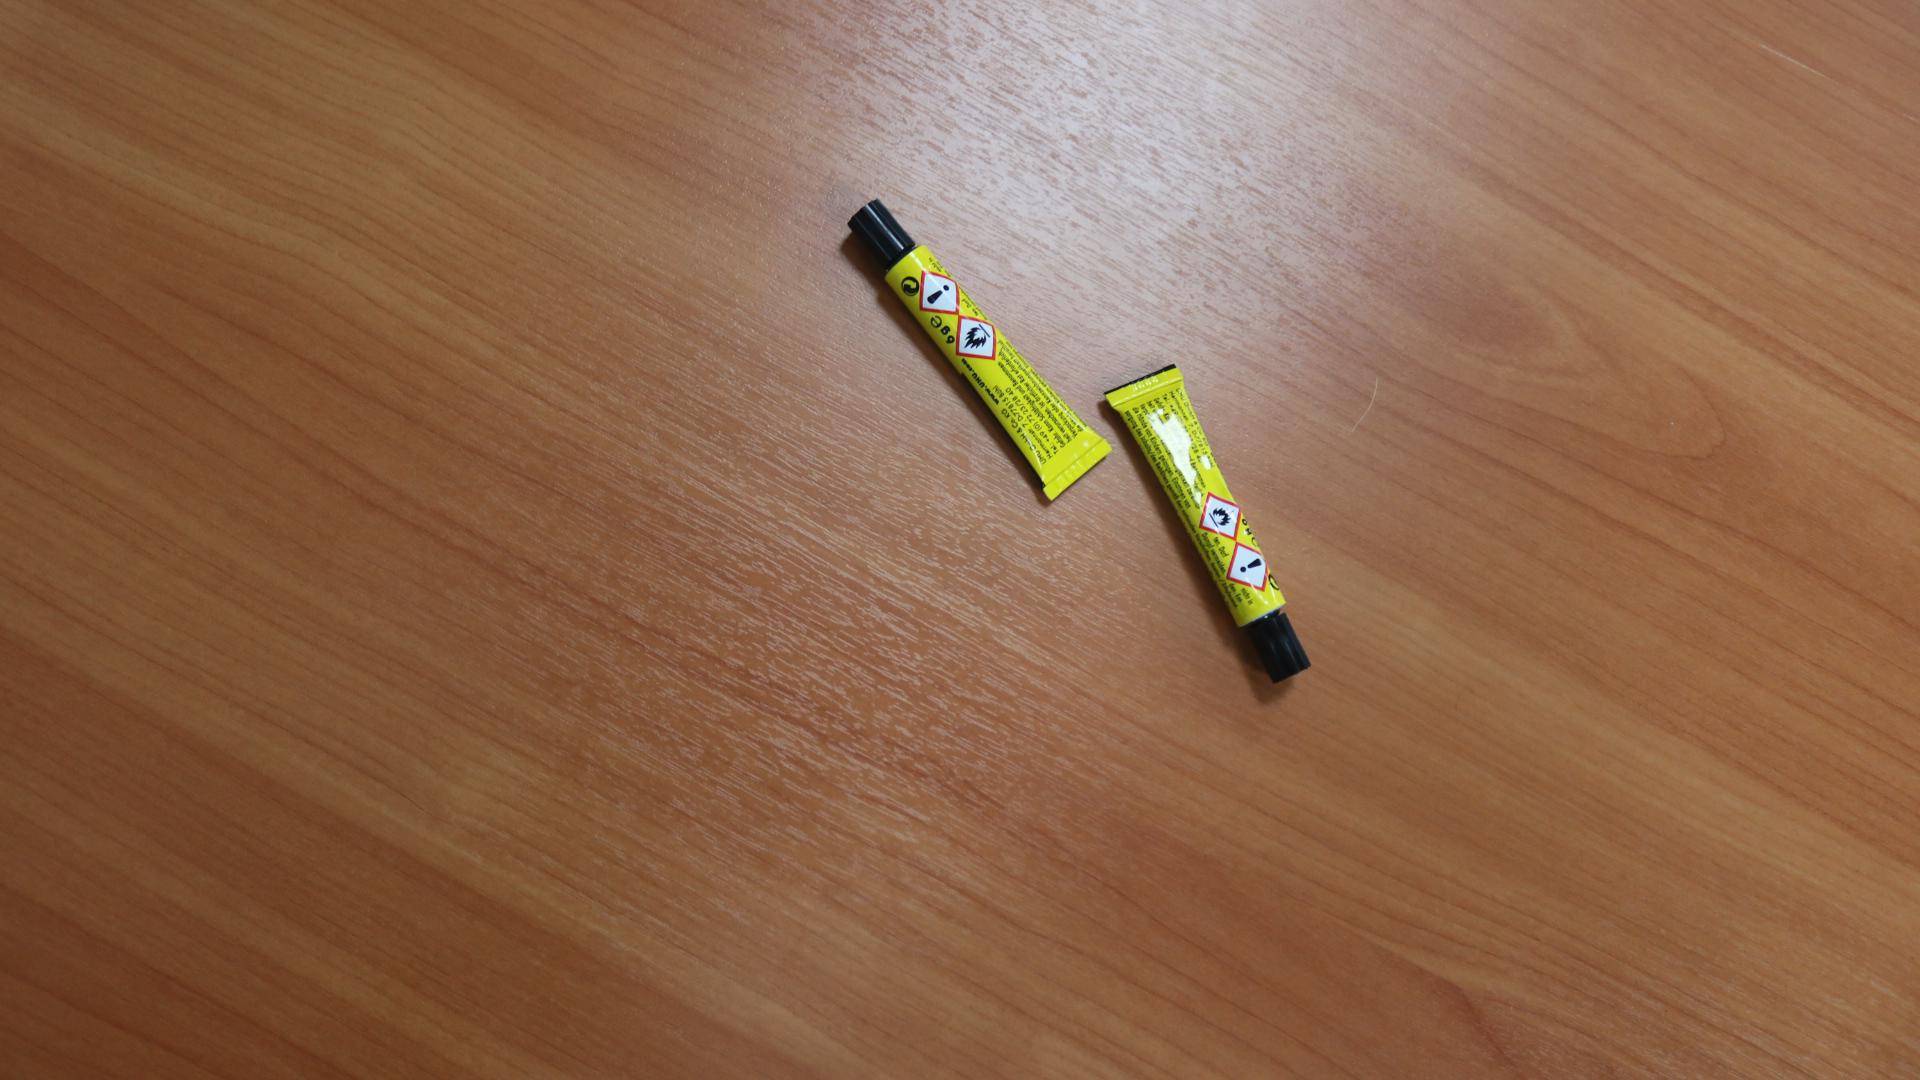Head: (1278, 643, 1288, 652), (878, 229, 887, 238)
Tail: (1135, 383, 1149, 393), (1073, 465, 1084, 475)
Tube: (847, 199, 1113, 504), (1105, 364, 1312, 682)
